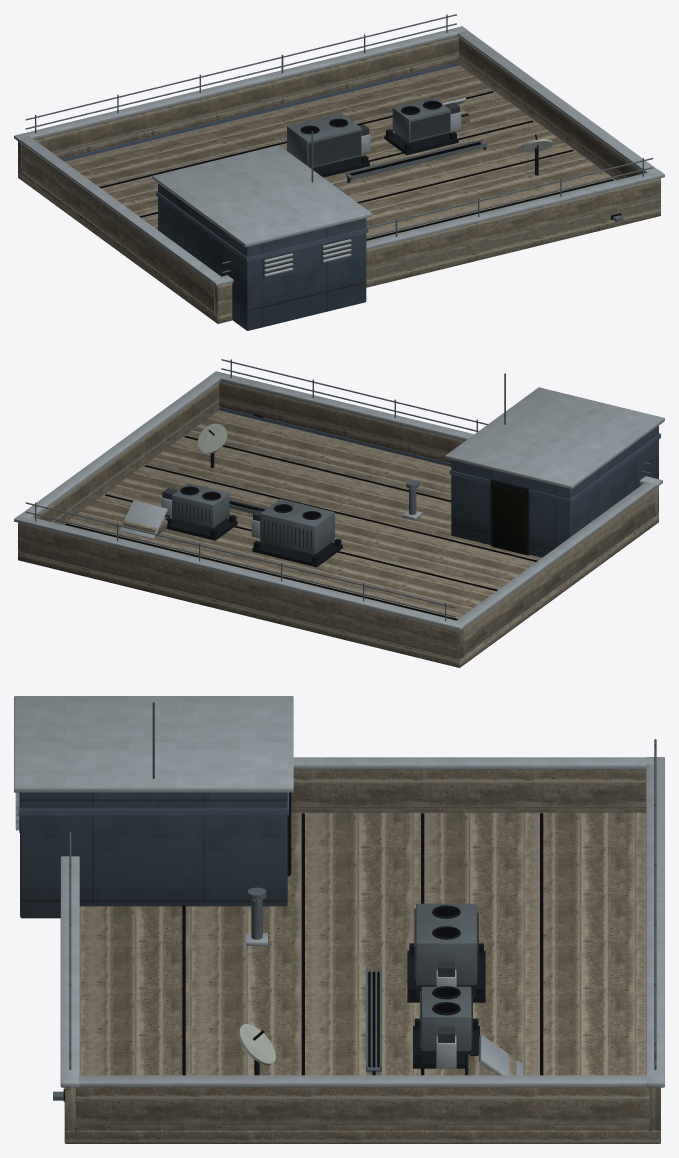
Rendered from fac_office_roof.glb.
The picture shows the model from 3 angles, top to bottom: view 1: azimuth 30°, elevation 25°; view 2: azimuth 150°, elevation 25°; view 3: azimuth 270°, elevation 25°; orthographic projection. The views are drawn at different scales.
Parts seen in each view (by area): view 1: FAC_OFFICE_ROOF; view 2: FAC_OFFICE_ROOF; view 3: FAC_OFFICE_ROOF.
Boxes of the visible parts, x1,y1,x2,y2 form: FAC_OFFICE_ROOF: (14,14,664,330); FAC_OFFICE_ROOF: (14,359,664,667); FAC_OFFICE_ROOF: (14,696,664,1143).
Bounding box in the file's own units: 13.86 × 4.15 × 11.68.
10 materials, 10 textured.
